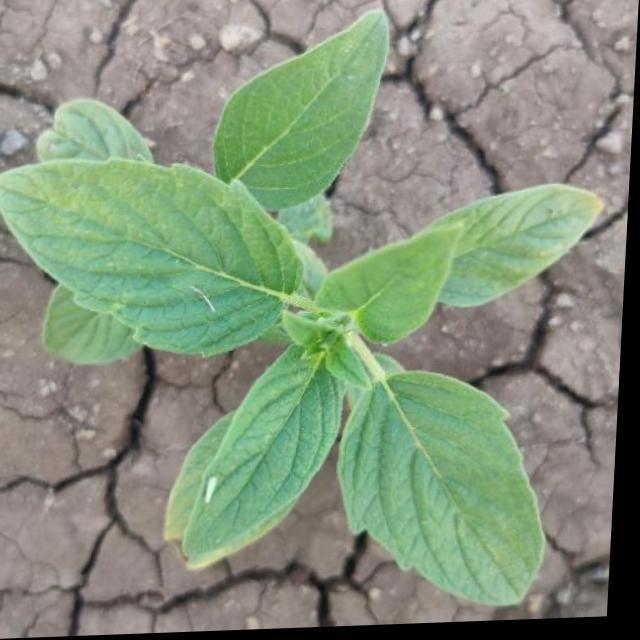crop: (0, 0, 623, 630)
